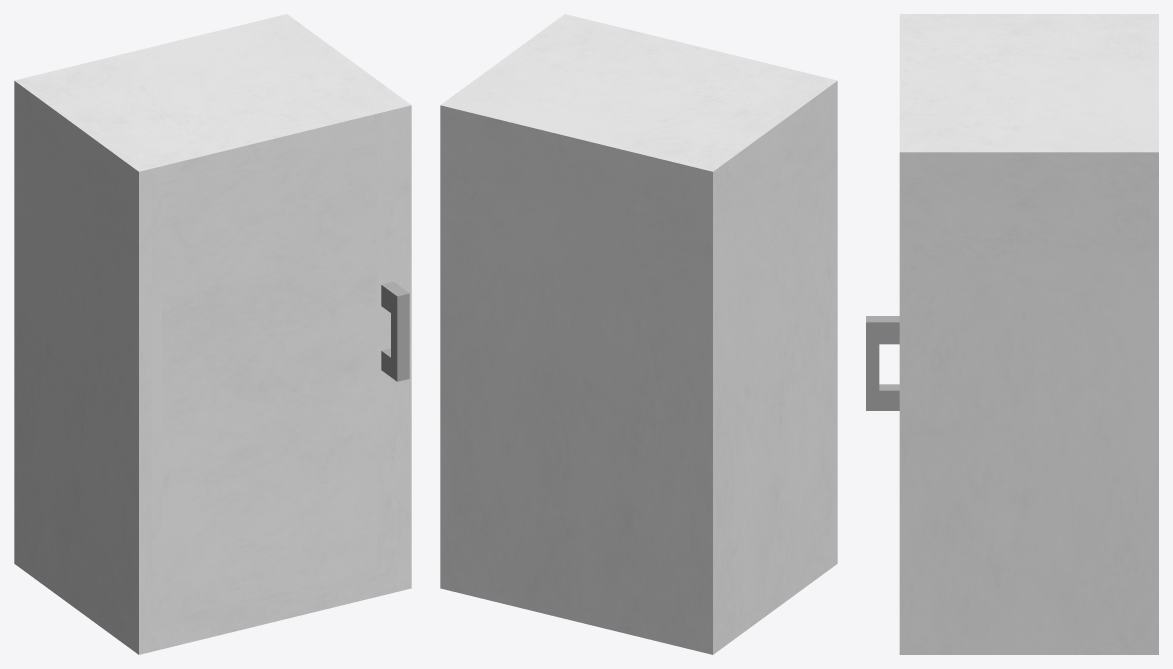
The model's file is Fridge.fbx.
3 views of the same model, side by side, from view 1: azimuth 30°, elevation 25°; view 2: azimuth 150°, elevation 25°; view 3: azimuth 270°, elevation 25° (orthographic). The views are drawn at different scales.
Parts seen in each view (by area): view 1: pCube203, pCube204, pCube205; view 2: pCube203; view 3: pCube203, pCube205.
Part boxes in pixels (x1,y1,x2,y2): pCube203: (14,14,411,654); pCube204: (151,125,397,635); pCube205: (381,281,409,381); pCube203: (440,14,837,654); pCube203: (899,14,1158,654); pCube205: (866,316,899,410).
Bounding box in the file's own units: 1.08 × 1.84 × 0.9699.
